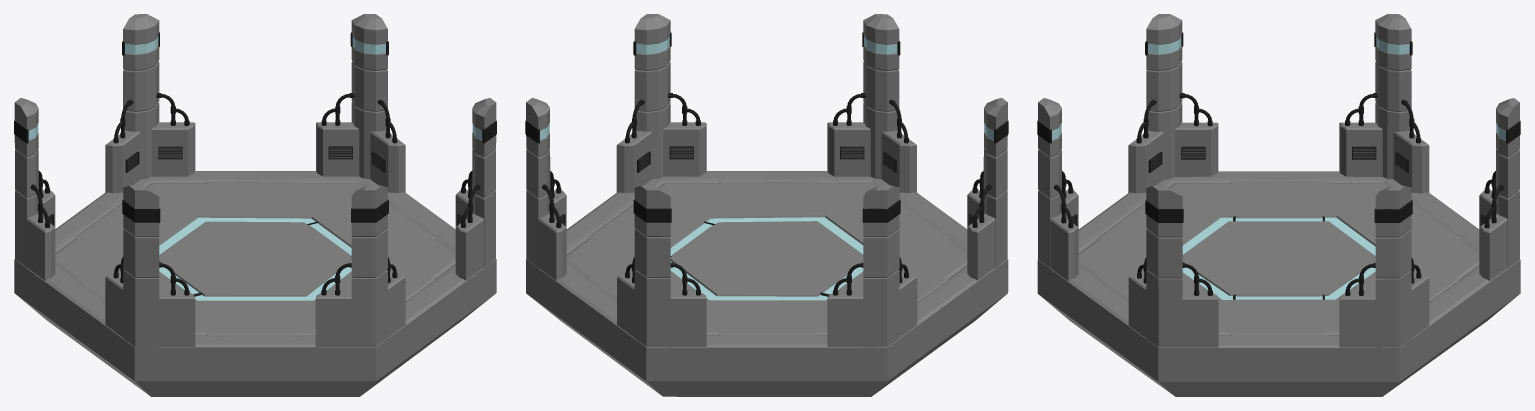
File: normal_bridge.fbx
3 views of the same model, side by side, from view 1: azimuth 30°, elevation 25°; view 2: azimuth 150°, elevation 25°; view 3: azimuth 270°, elevation 25° (orthographic).
Parts seen in each view (by area): view 1: Cube.001, Platform_normal, Platform_brücke; view 2: Cube.001, Platform_normal, Platform_brücke; view 3: Platform_normal, Cube.001, Platform_brücke.
Boxes of the visible parts, bbox=[...] form: Cube.001: bbox=[14, 14, 496, 347]; Platform_normal: bbox=[14, 171, 496, 396]; Platform_brücke: bbox=[14, 171, 462, 379]; Cube.001: bbox=[525, 14, 1008, 347]; Platform_normal: bbox=[526, 171, 1007, 396]; Platform_brücke: bbox=[559, 171, 1008, 380]; Platform_normal: bbox=[1037, 171, 1520, 396]; Cube.001: bbox=[1037, 14, 1520, 347]; Platform_brücke: bbox=[1071, 171, 1486, 344].
Bounding box in the file's own units: 174 × 109 × 201.
